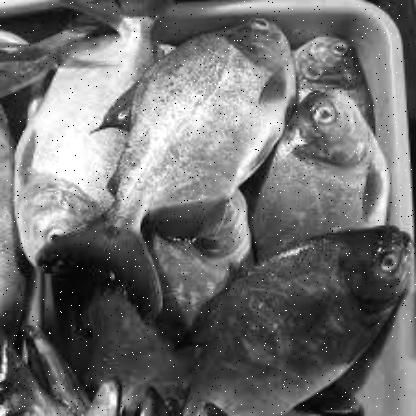ikan-pacu: (53, 13, 299, 293), (178, 221, 410, 415), (10, 6, 152, 274), (249, 76, 384, 257)
